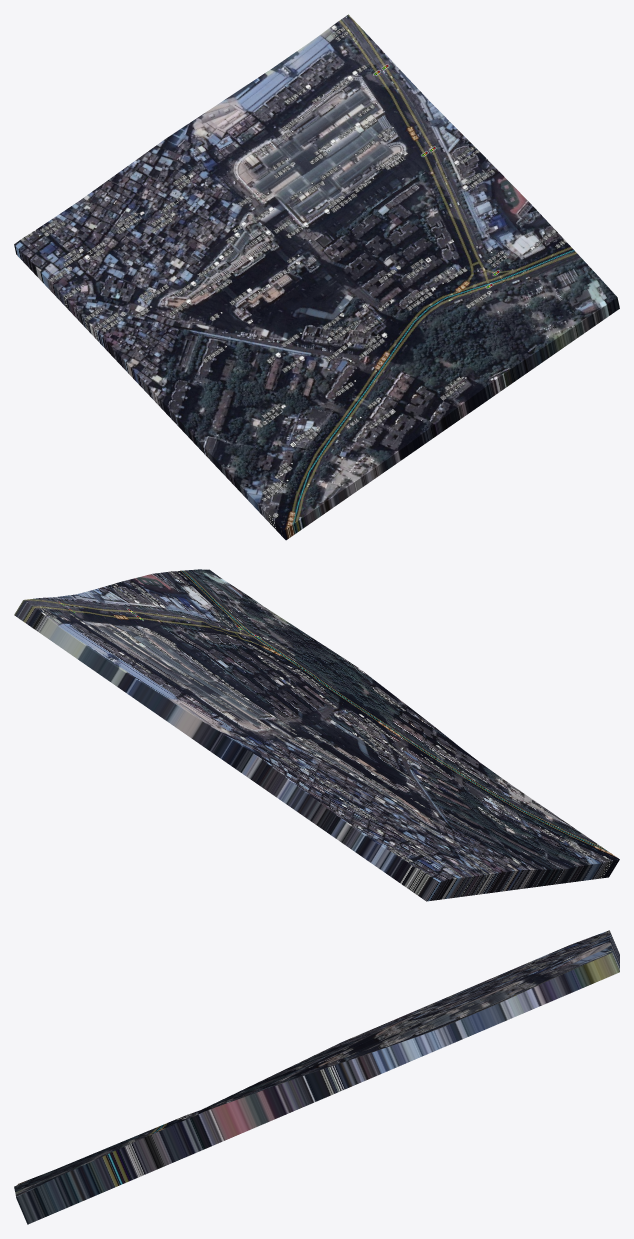
3 renders of one model, top to bottom at view 1: azimuth 30°, elevation 25°; view 2: azimuth 150°, elevation 25°; view 3: azimuth 270°, elevation 25°, orthographic. The views are drawn at different scales.
Parts seen in each view (by area): view 1: 0_16_17; view 2: 0_16_17; view 3: 0_16_17.
Part boxes in pixels (x1,y1,x2,y2): 0_16_17: (14,14,619,540); 0_16_17: (14,569,619,901); 0_16_17: (14,930,619,1224).
Size of the model in its own units: 601 by 444 by 555.
Materials: 1 (1 with a texture image).
